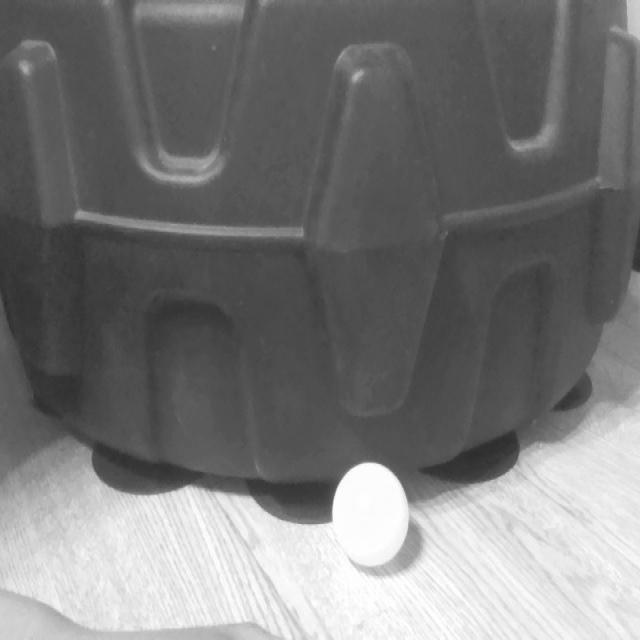ping-pong-ball: (332, 466, 408, 566)
